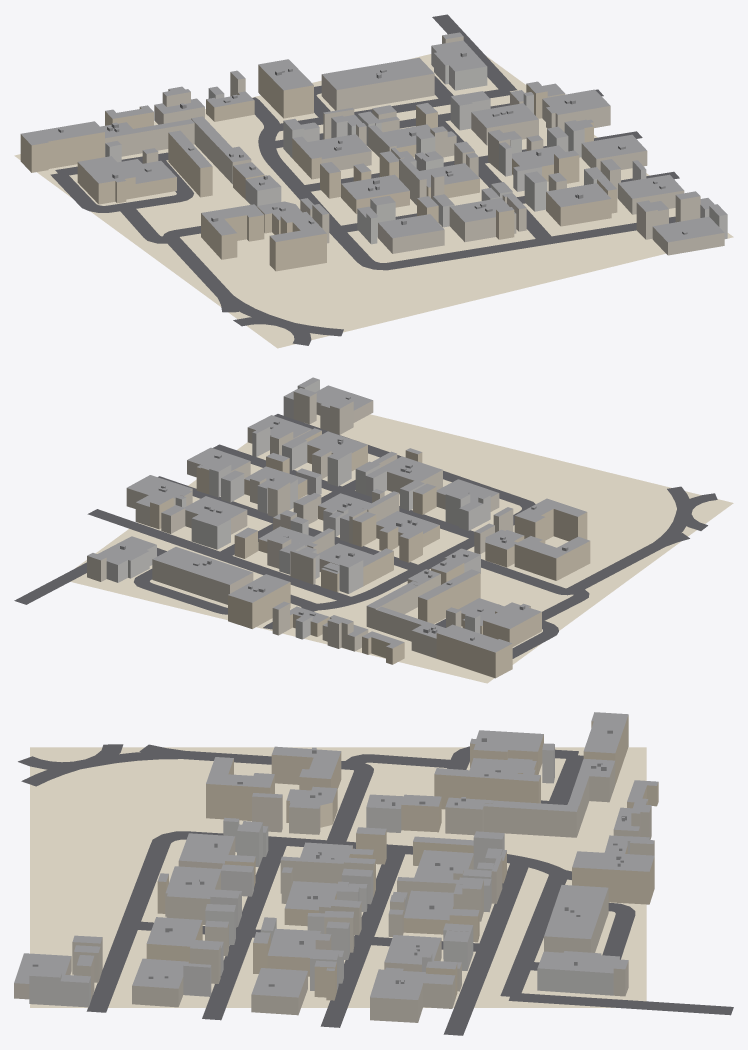
File: tile_3_-2_far.glb
3 renders of one model, top to bottom at view 1: azimuth 30°, elevation 25°; view 2: azimuth 150°, elevation 25°; view 3: azimuth 270°, elevation 25°, orthographic. The views are drawn at different scales.
Parts seen in each view (by area): view 1: nature_ground, buildings_roof, buildings_sandstone, buildings_concrete_warm, roads_asphalt, buildings_concrete_light; view 2: nature_ground, buildings_roof, buildings_sandstone, buildings_concrete_warm, roads_asphalt, buildings_concrete_light; view 3: nature_ground, buildings_roof, roads_asphalt, buildings_concrete_warm, buildings_sandstone, buildings_concrete_light.
Part boxes in pixels (bbox=[...]): nature_ground: bbox=[14, 54, 733, 348]; buildings_roof: bbox=[21, 32, 727, 242]; buildings_sandstone: bbox=[20, 65, 617, 271]; buildings_concrete_warm: bbox=[105, 35, 724, 255]; roads_asphalt: bbox=[50, 14, 679, 345]; buildings_concrete_light: bbox=[105, 46, 727, 244]; nature_ground: bbox=[70, 414, 733, 683]; buildings_roof: bbox=[87, 377, 589, 652]; buildings_sandstone: bbox=[150, 431, 590, 678]; buildings_concrete_warm: bbox=[87, 392, 513, 658]; roads_asphalt: bbox=[14, 414, 717, 658]; buildings_concrete_light: bbox=[106, 379, 490, 639]; nature_ground: bbox=[30, 747, 646, 1007]; buildings_roof: bbox=[14, 712, 658, 999]; roads_asphalt: bbox=[18, 744, 733, 1035]; buildings_concrete_warm: bbox=[14, 761, 654, 1022]; buildings_sandstone: bbox=[146, 715, 658, 1000]; buildings_concrete_light: bbox=[29, 745, 649, 1007].
Size of the model in its own units: 280 by 16.47 by 292.
